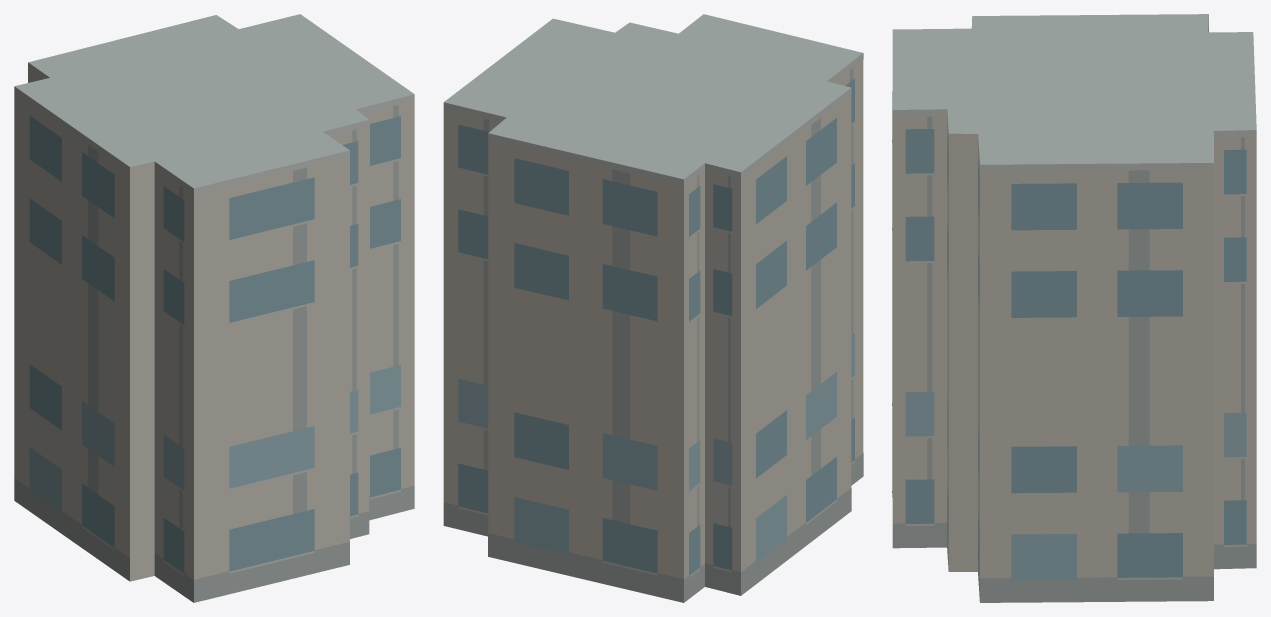
Rendered from survey-upis-32872345.glb.
3 renders of one model, left to right at view 1: azimuth 30°, elevation 25°; view 2: azimuth 150°, elevation 25°; view 3: azimuth 270°, elevation 25°, orthographic. The views are drawn at different scales.
Parts seen in each view (by area): view 1: survey-upis-32872345.tmp; view 2: survey-upis-32872345.tmp; view 3: survey-upis-32872345.tmp.
Part boxes in pixels (<box>): survey-upis-32872345.tmp: <box>14,14,414,602</box>; survey-upis-32872345.tmp: <box>443,14,863,602</box>; survey-upis-32872345.tmp: <box>892,14,1256,602</box>.
Size of the model in its own units: 11.26 by 15.25 by 11.51.
